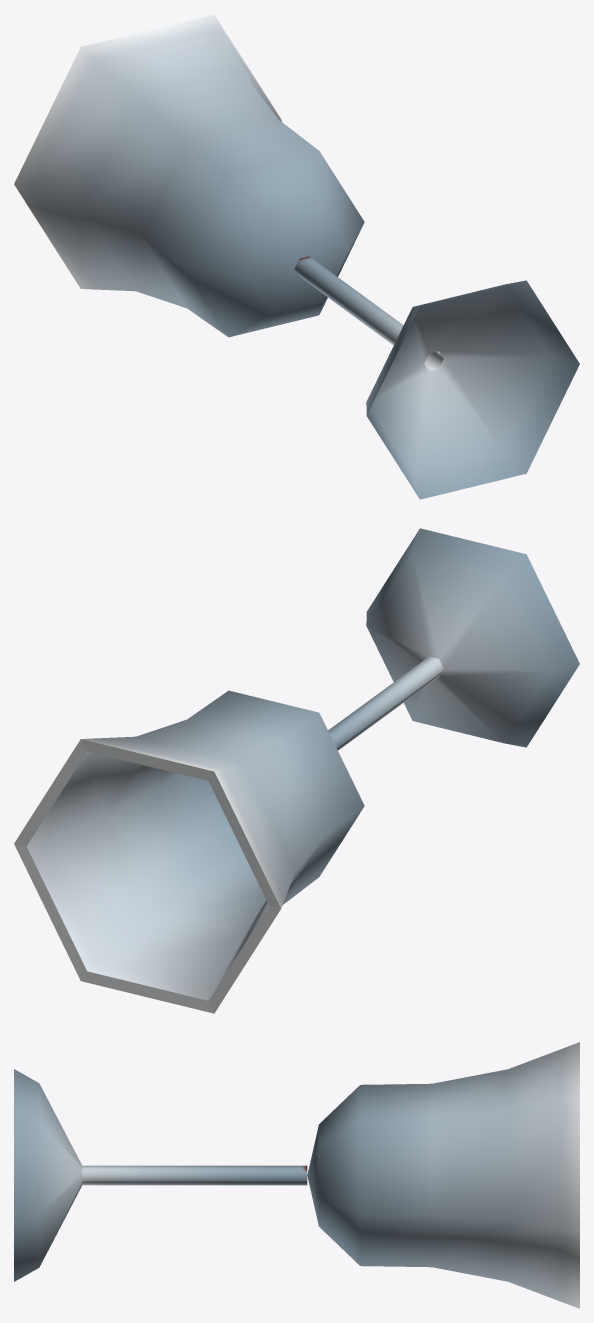
The model's file is Glass_B.fbx.
3 renders of one model, top to bottom at view 1: azimuth 30°, elevation 25°; view 2: azimuth 150°, elevation 25°; view 3: azimuth 270°, elevation 25°, orthographic. The views are drawn at different scales.
Parts seen in each view (by area): view 1: Glass_B; view 2: Glass_B; view 3: Glass_B.
Boxes of the visible parts, x1,y1,x2,y2 form: Glass_B: (14,14,579,499); Glass_B: (14,528,579,1013); Glass_B: (14,1042,579,1308).
Size of the model in its own units: 1.7 by 1.48 by 3.6.
